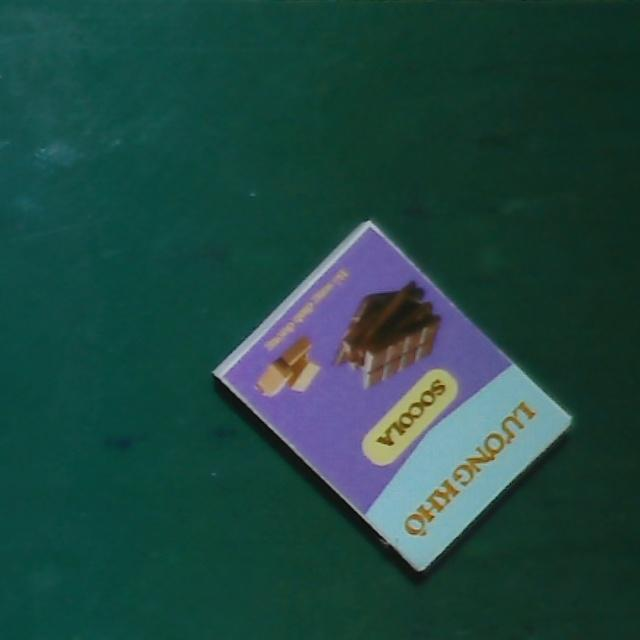socola: (212, 215, 574, 577)
